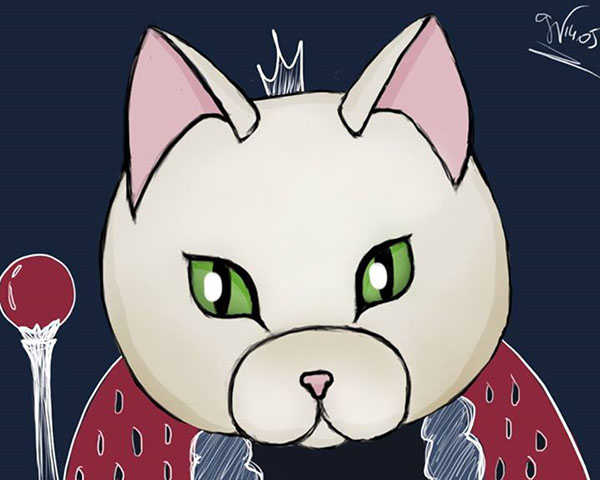cat: (53, 12, 586, 480)
